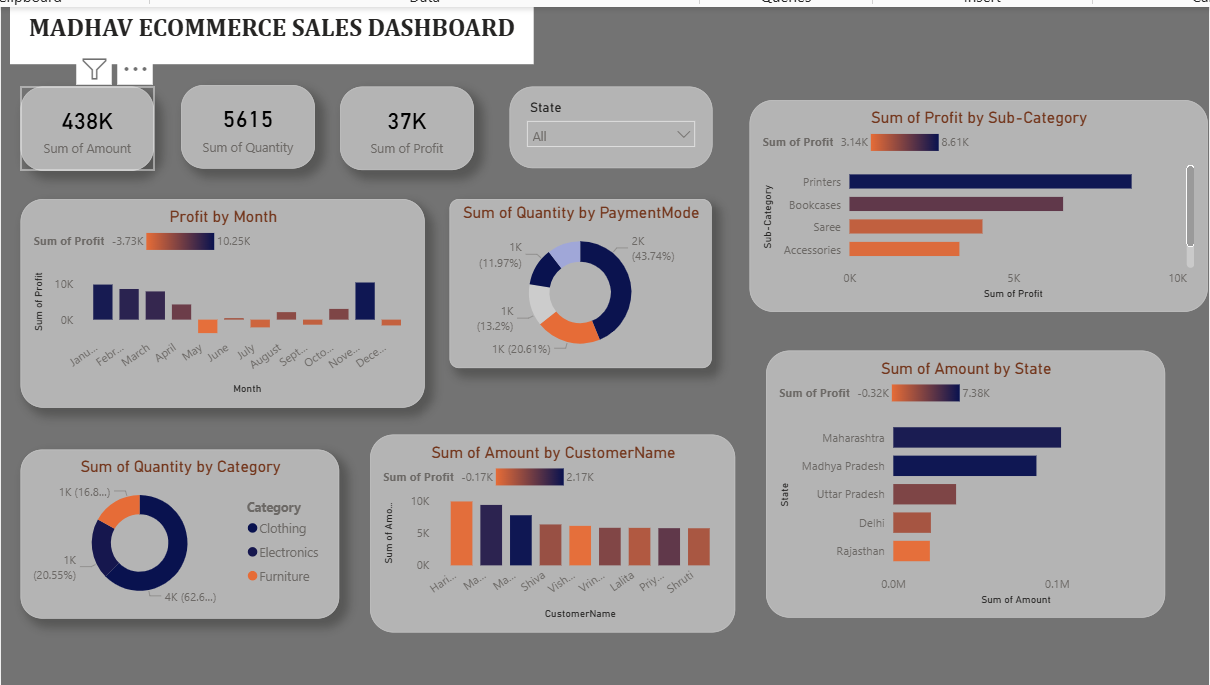

What the dashboard file says about the page in this screenshot:
{"tool":"powerbi","page":{"name":"Page 1","canvas":[1280,720],"ordinal":0},"visuals":[{"type":"textbox","box":[9.4,0,555.6,60.5],"z":0},{"type":"columnChart","title":" Profit by Month","fields":{"Y":["Sum(Details.Profit)"],"Category":["Orders.Order Date.Variation.Date Hierarchy.Month"]},"box":[20.8,204.1,429,221.1],"z":1000},{"type":"clusteredBarChart","fields":{"Y":["Sum(Details.Profit)"],"Category":["Details.Sub-Category"]},"box":[793.7,98.3,485.7,224.9],"z":2000},{"type":"donutChart","fields":{"Category":["Details.Category"],"Y":["Sum(Details.Quantity)"]},"box":[20.8,468.7,338.3,179.5],"z":3000},{"type":"donutChart","fields":{"Y":["Sum(Details.Quantity)"],"Category":["Details.PaymentMode"]},"box":[476.2,204.1,277.8,179.5],"z":4000},{"type":"card","fields":{"Values":["Sum(Details.Amount)"]},"box":[20.7,84.3,141.6,89.1],"z":5000},{"type":"card","fields":{"Values":["Sum(Details.Quantity)"]},"box":[190.9,83.2,141.7,88.8],"z":6000},{"type":"card","fields":{"Values":["Sum(Details.Profit)"]},"box":[359.1,85,141.7,88.8],"z":7000},{"type":"barChart","fields":{"Y":["Sum(Details.Amount)"],"Category":["Orders.State"]},"box":[810.7,364.7,423.3,283.5],"z":8000},{"type":"columnChart","fields":{"Category":["Orders.CustomerName"],"Y":["Sum(Details.Amount)"]},"box":[391.2,453.5,387.4,209.8],"z":9000},{"type":"slicer","fields":{"Values":["Orders.State"]},"box":[538.6,85,215.4,86.9],"z":10000}]}

Visuals, with their boxes in screenshot pixels (x1, y1, x2, y2):
textbox: region(12, 6, 530, 63)
" Profit by Month" columnChart: region(23, 197, 422, 403)
clusteredBarChart - Sum(Details.Profit) x Details.Sub-Category: region(743, 98, 1196, 308)
donutChart - Details.Category x Sum(Details.Quantity): region(23, 443, 338, 611)
donutChart - Sum(Details.Quantity) x Details.PaymentMode: region(447, 197, 706, 364)
card - Sum(Details.Amount): region(22, 85, 154, 168)
card - Sum(Details.Quantity): region(181, 84, 313, 167)
card - Sum(Details.Profit): region(338, 86, 470, 168)
barChart - Sum(Details.Amount) x Orders.State: region(759, 346, 1154, 611)
columnChart - Orders.CustomerName x Sum(Details.Amount): region(368, 429, 729, 625)
slicer - Orders.State: region(505, 86, 706, 167)
